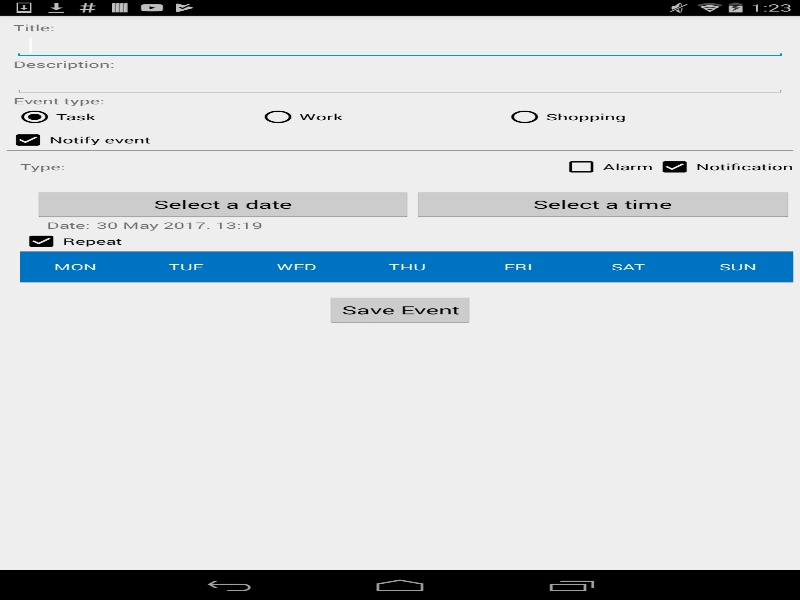Button: (412, 189, 793, 219), (33, 189, 412, 219), (325, 295, 474, 325)
Input: (13, 33, 786, 58), (13, 70, 786, 95)
